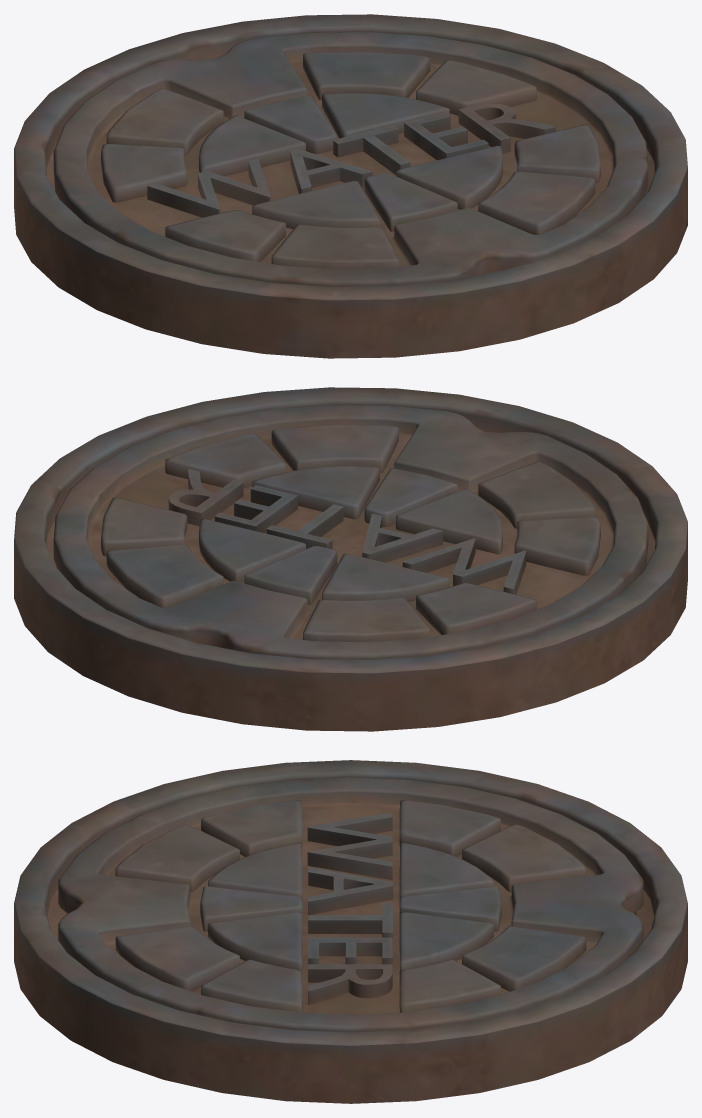
The model's file is water_manhole_cover.glb.
The picture shows the model from 3 angles, top to bottom: view 1: azimuth 30°, elevation 25°; view 2: azimuth 150°, elevation 25°; view 3: azimuth 270°, elevation 25°; orthographic projection.
Parts seen in each view (by area): view 1: water_manhole_cover, water_manhole_cover_frame; view 2: water_manhole_cover, water_manhole_cover_frame; view 3: water_manhole_cover, water_manhole_cover_frame.
Boxes of the visible parts, x1,y1,x2,y2 form: water_manhole_cover: (53,32,648,286); water_manhole_cover_frame: (14,14,687,358); water_manhole_cover: (53,405,648,659); water_manhole_cover_frame: (14,387,687,731); water_manhole_cover: (58,777,643,1032); water_manhole_cover_frame: (14,760,687,1103).
Size of the model in its own units: 0.6908 by 0.0676 by 0.6908.
1 material, 1 textured.
